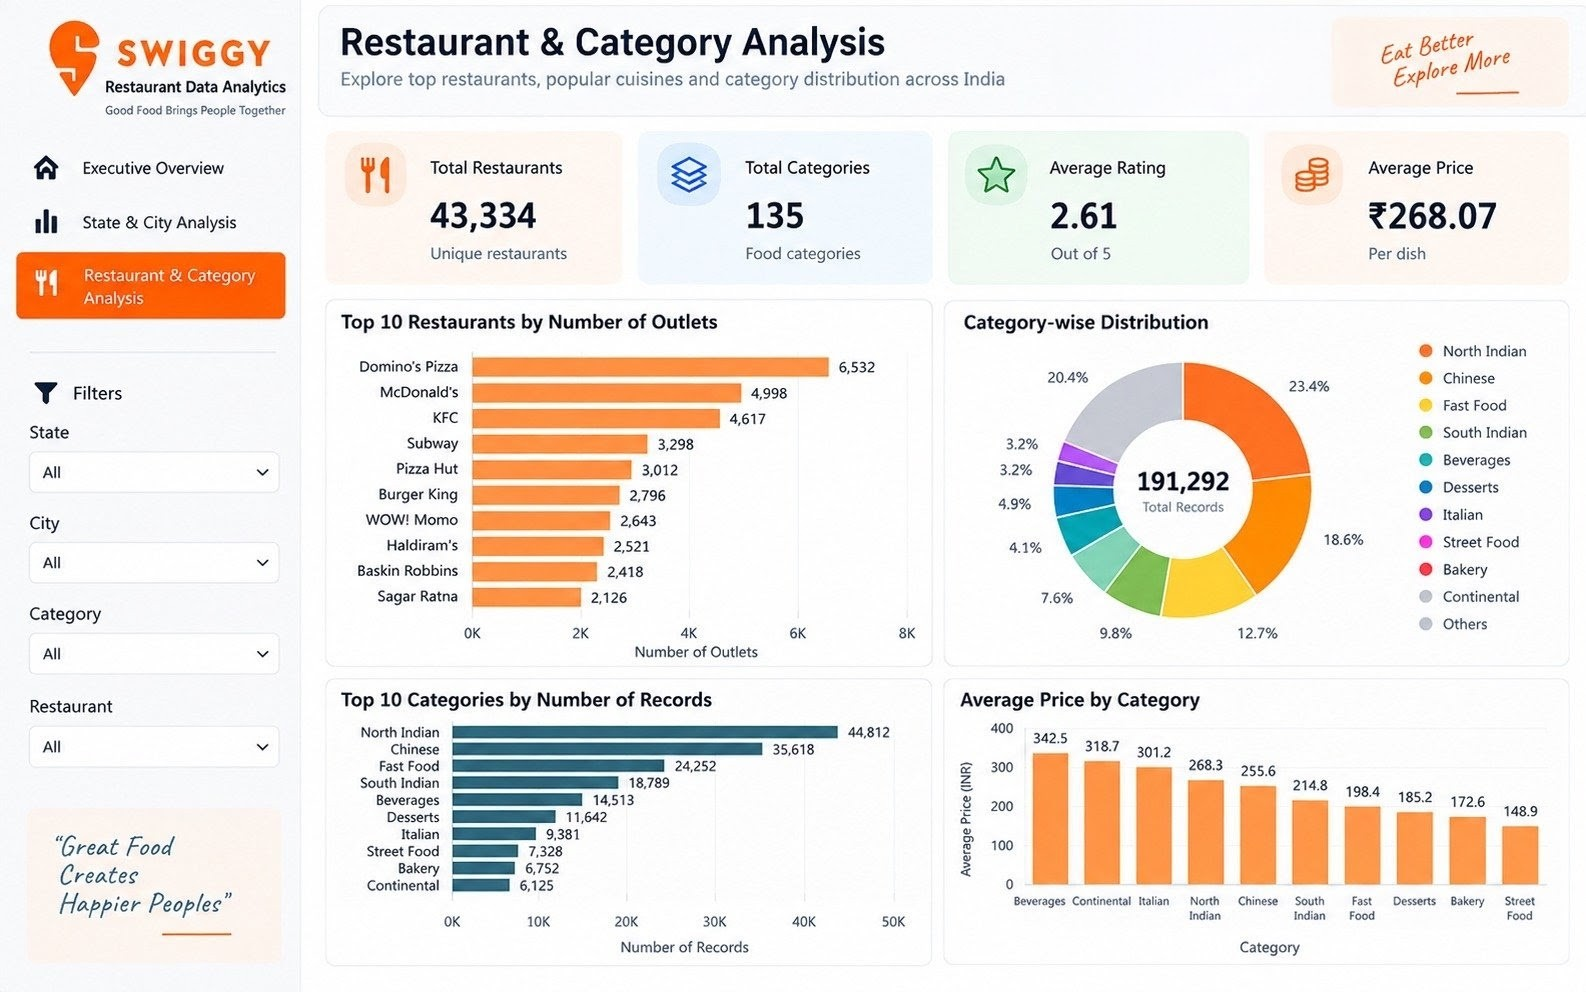

Layout of this report page (visuals, bound fields, positions):
{"tool":"powerbi","page":{"name":"Page 1","canvas":[1280,720],"ordinal":0},"visuals":[{"type":"shape","box":[0,0,227.3,719.7],"z":0},{"type":"image","box":[9.1,0,210.6,84.8],"z":1000},{"type":"textbox","box":[45.5,60.6,181.8,47],"z":2000},{"type":"shape","box":[0,130.3,227.3,63.6],"z":3000},{"type":"textbox","box":[60.6,142.4,171.2,37.9],"z":4000},{"type":"textbox","box":[48.5,224.2,184.8,37.9],"z":5000},{"type":"textbox","box":[57.6,295.5,171.2,37.9],"z":6000},{"type":"textbox","box":[68.2,351.5,159.1,37.9],"z":7000},{"type":"textbox","box":[248.5,18.2,581.8,74.2],"z":8000},{"type":"textbox","box":[252,75.3,387.9,53],"z":9000},{"type":"card","title":"Total Records","fields":{"Values":["CountNonNull(swiggy_all_menus_india.Category)"]},"box":[313.6,171.3,160.6,84.8],"z":10000},{"type":"shape","box":[490.9,158.1,251.5,136.4],"z":11000},{"type":"card","title":"Average Price","fields":{"Values":["Avg(swiggy_all_menus_india.Rating)"]},"box":[830.3,171.8,160.6,84.8],"z":12000},{"type":"shape","box":[231.8,158.1,247,136.4],"z":13000},{"type":"card","title":"Average Price","fields":{"Values":["Avg(swiggy_all_menus_india.Price _INR)"]},"box":[574.2,171.8,160.6,84.8],"z":14000},{"type":"shape","box":[753,158.1,250,136.4],"z":15000},{"type":"shape","box":[1007.6,158.1,269.7,136.4],"z":16000},{"type":"card","title":"Rating Availability","fields":{"Values":["Avg(swiggy_all_menus_india.Price _INR)"]},"box":[1062.1,171.3,207.6,84.8],"z":17000},{"type":"slicer","fields":{"Values":["swiggy_all_menus_india.State"]},"box":[871.2,9.1,180.3,74.2],"z":18000},{"type":"slicer","fields":{"Values":["swiggy_all_menus_india.City"]},"box":[1089.4,9.1,180.3,74.2],"z":19000},{"type":"slicer","fields":{"Values":["swiggy_all_menus_india.State"]},"box":[871.2,87.9,180.3,74.2],"z":20000},{"type":"slicer","fields":{"Values":["swiggy_all_menus_india.State"]},"box":[1089.4,89.4,180.3,74.2],"z":21000},{"type":"barChart","title":"Top 10 States by Number of Records","fields":{"Category":["swiggy_all_menus_india.State"],"Y":["CountNonNull(swiggy_all_menus_india.State)"]},"box":[243.9,297,490.9,245.5],"z":22000},{"type":"clusteredBarChart","title":"Average Price by State","fields":{"Category":["swiggy_data.State"],"Y":["Avg(swiggy_data.Price _INR)"]},"box":[753,297,506.1,245.5],"z":22001}]}

Visuals, with their boxes on the page's 1280x720 design canvas (x1, y1, x2, y2). These are canvas units, not pixel positions in the 1586x992 screenshot, which may show the page scaled, cropped or inside an application window:
shape: x1=0 y1=0 x2=227 y2=720
image: x1=9 y1=0 x2=220 y2=85
textbox: x1=46 y1=61 x2=227 y2=108
shape: x1=0 y1=130 x2=227 y2=194
textbox: x1=61 y1=142 x2=232 y2=180
textbox: x1=48 y1=224 x2=233 y2=262
textbox: x1=58 y1=296 x2=229 y2=333
textbox: x1=68 y1=352 x2=227 y2=389
textbox: x1=248 y1=18 x2=830 y2=92
textbox: x1=252 y1=75 x2=640 y2=128
"Total Records" card: x1=314 y1=171 x2=474 y2=256
shape: x1=491 y1=158 x2=742 y2=294
"Average Price" card: x1=830 y1=172 x2=991 y2=257
shape: x1=232 y1=158 x2=479 y2=294
"Average Price" card: x1=574 y1=172 x2=735 y2=257
shape: x1=753 y1=158 x2=1003 y2=294
shape: x1=1008 y1=158 x2=1277 y2=294
"Rating Availability" card: x1=1062 y1=171 x2=1270 y2=256
slicer - swiggy_all_menus_india.State: x1=871 y1=9 x2=1052 y2=83
slicer - swiggy_all_menus_india.City: x1=1089 y1=9 x2=1270 y2=83
slicer - swiggy_all_menus_india.State: x1=871 y1=88 x2=1052 y2=162
slicer - swiggy_all_menus_india.State: x1=1089 y1=89 x2=1270 y2=164
"Top 10 States by Number of Records" barChart: x1=244 y1=297 x2=735 y2=542
"Average Price by State" clusteredBarChart: x1=753 y1=297 x2=1259 y2=542
